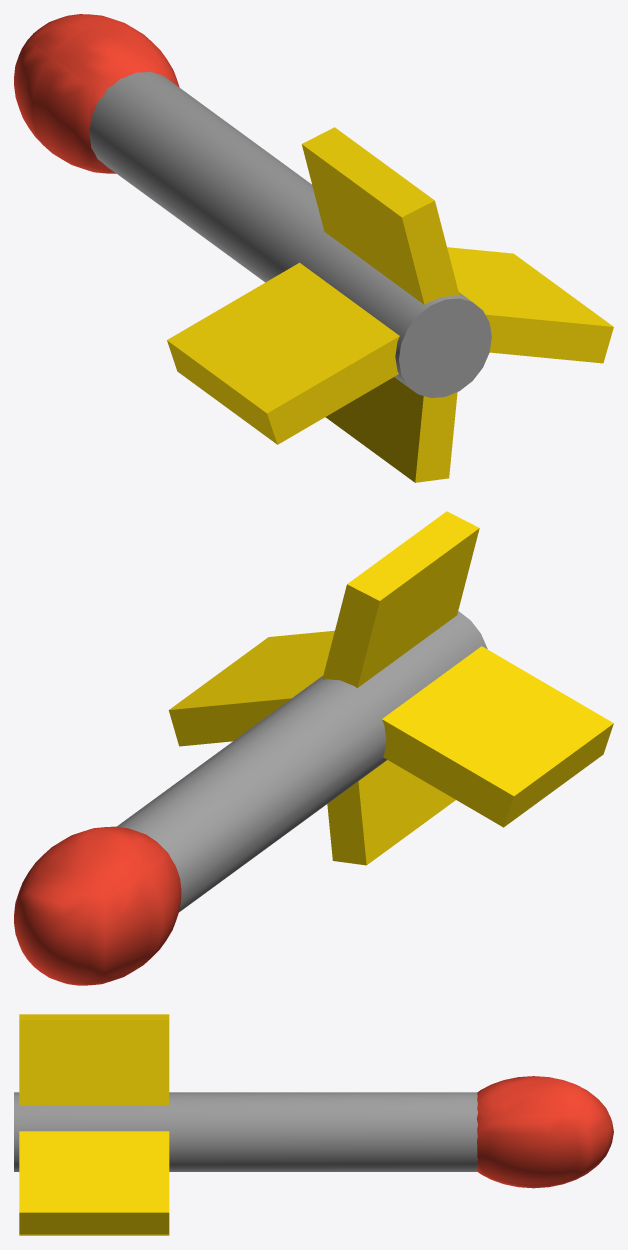
The model's file is MissileRainProjectile.fbx.
3 renders of one model, top to bottom at view 1: azimuth 30°, elevation 25°; view 2: azimuth 150°, elevation 25°; view 3: azimuth 270°, elevation 25°, orthographic. The views are drawn at different scales.
Visible parts, largest first — view 1: Body, FinLeft, FinTop, Nose, FinRight, FinBottom; view 2: Body, FinLeft, Nose, FinTop, FinRight, FinBottom; view 3: Body, FinRight, FinTop, Nose.
Boxes of the visible parts, box(x1,y1,x2,y2) form: Body: box(89, 71, 491, 397); FinLeft: box(167, 262, 399, 444); FinTop: box(301, 127, 459, 304); Nose: box(14, 14, 179, 173); FinRight: box(447, 247, 613, 363); FinBottom: box(325, 377, 457, 482); Body: box(117, 611, 487, 912); FinLeft: box(382, 646, 613, 827); Nose: box(14, 826, 181, 985); FinTop: box(322, 511, 479, 688); FinRight: box(168, 630, 334, 746); FinBottom: box(327, 760, 455, 865); Body: box(14, 1092, 478, 1171); FinRight: box(19, 1131, 169, 1233); FinTop: box(19, 1014, 169, 1105); Nose: box(476, 1076, 613, 1188).
Bounding box in the file's own units: 55.92 × 43.33 × 112.
